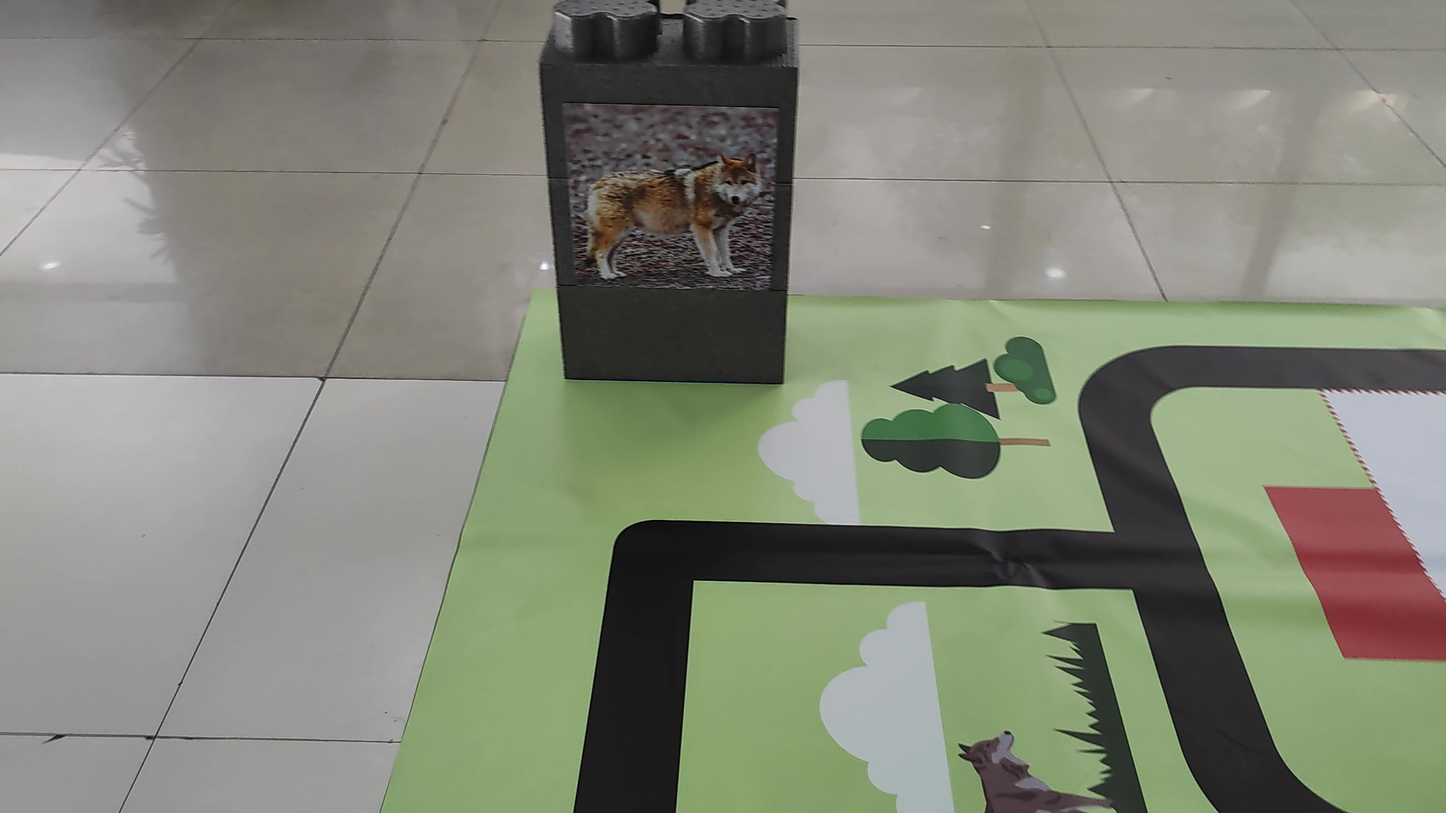wolf: (576, 114, 770, 297)
